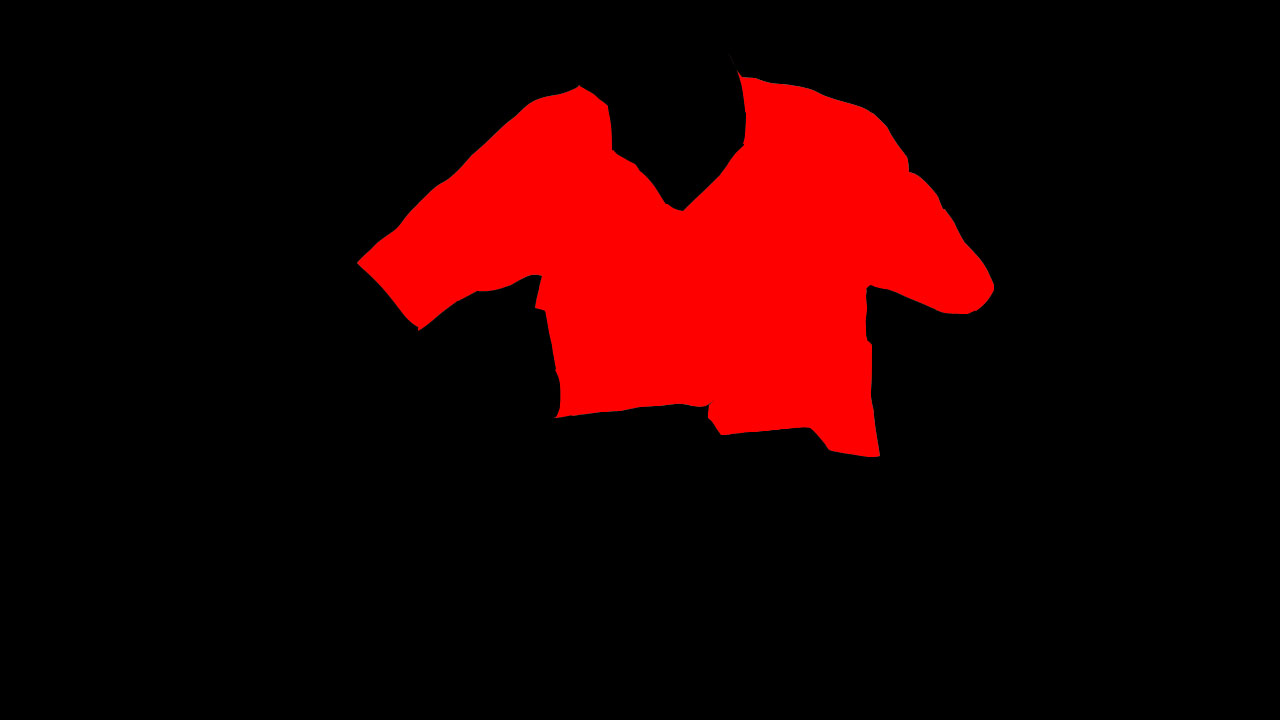uniforme_ifmt: (365, 79, 993, 453)
